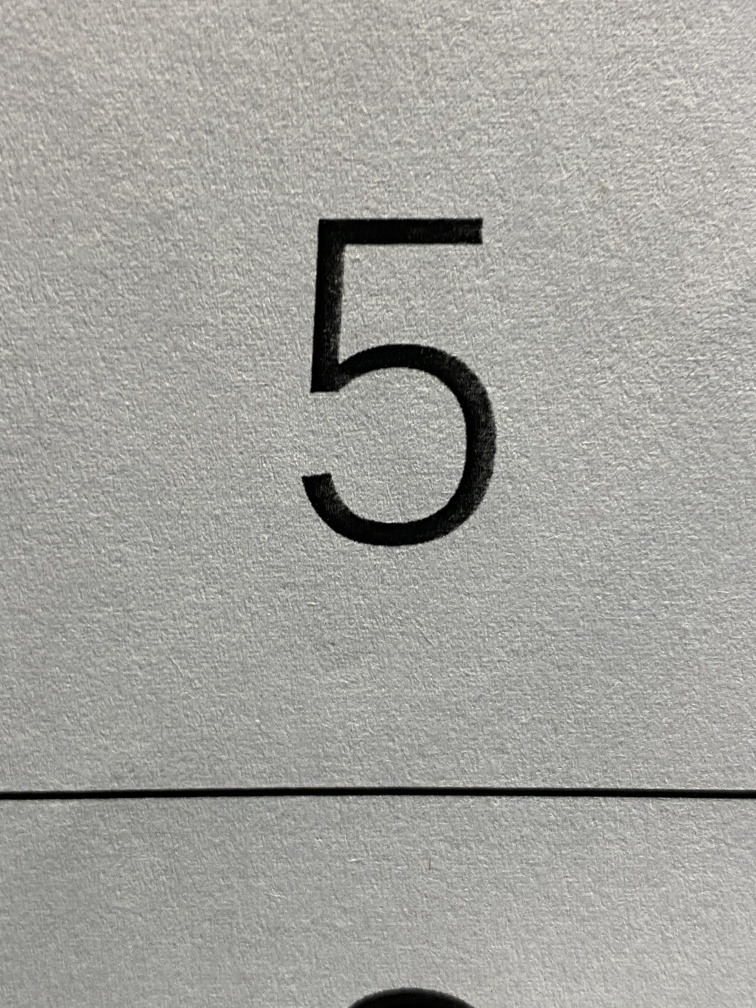five: (237, 162, 556, 615)
